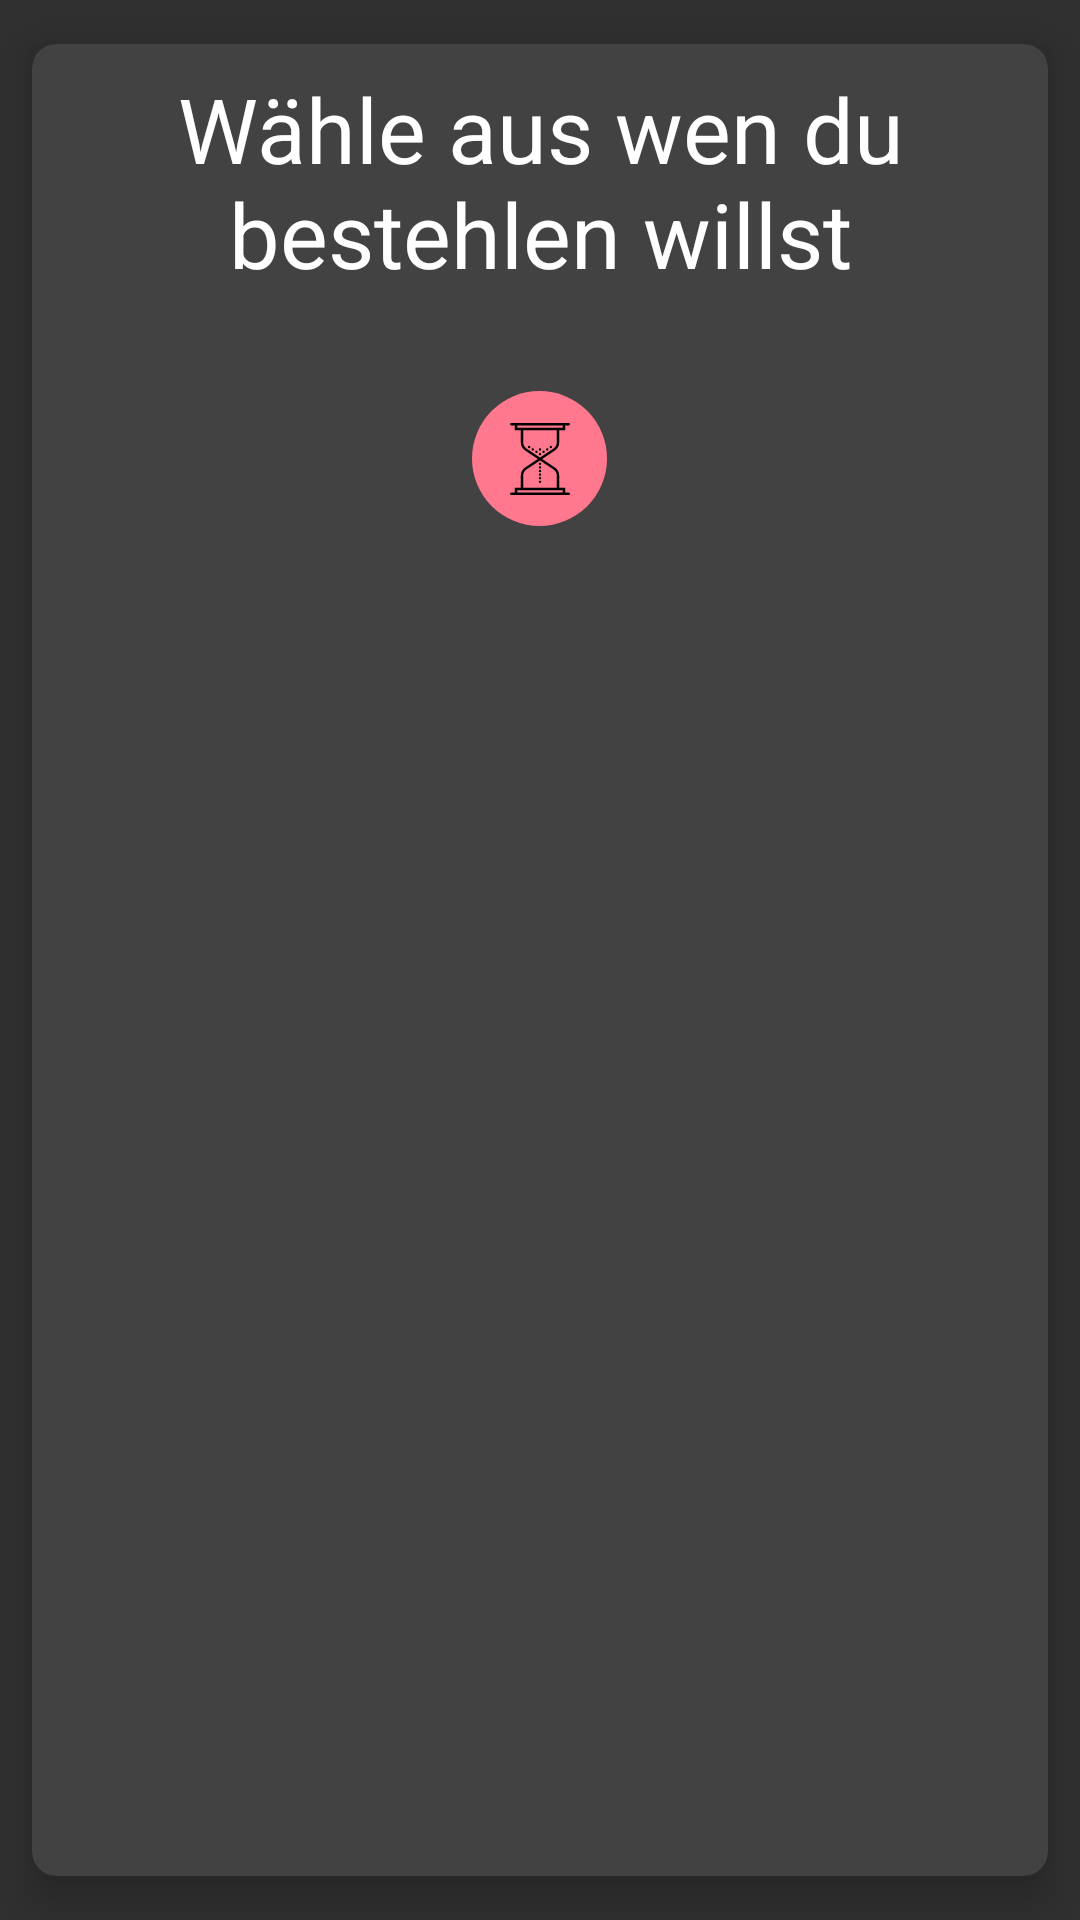

Locate icon controls on the screen. Image size 1080px x 1920px, boxes as (x1, y1, x2, y2).
hourglass: (472, 391, 607, 526)
